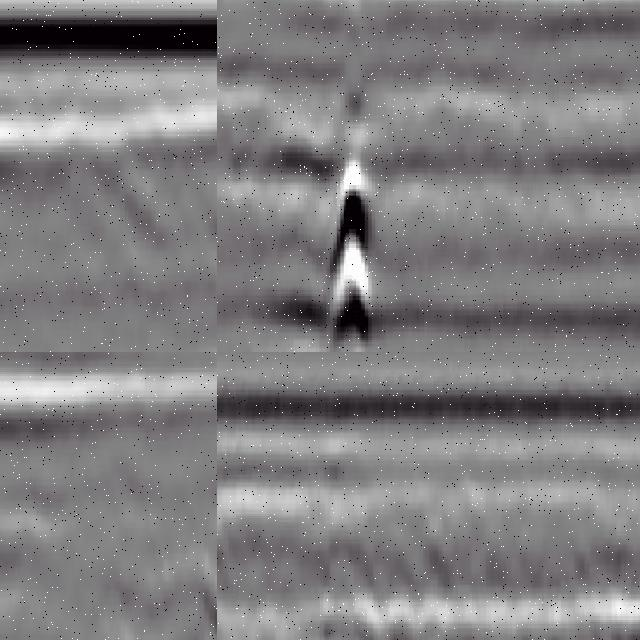crack: (322, 1, 374, 353)
